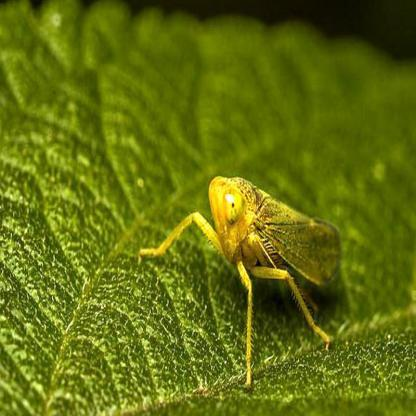green-leafhopper: (139, 175, 342, 377)
